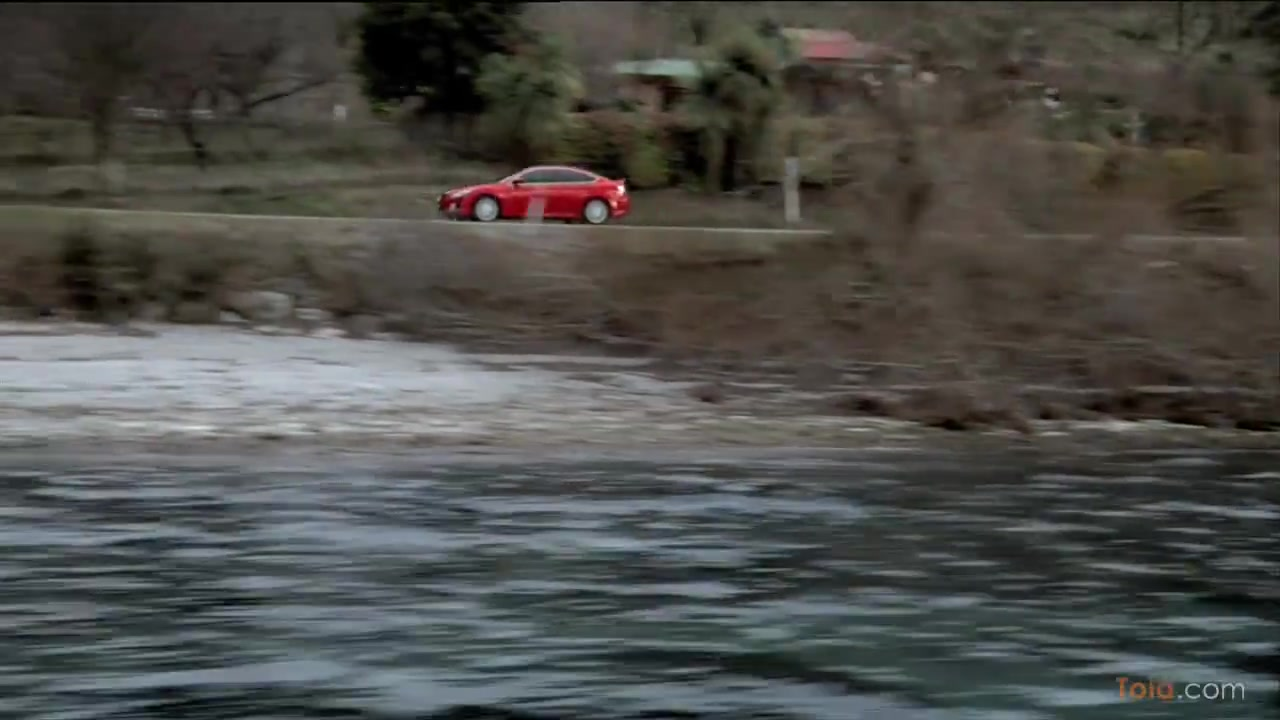car: (435, 159, 634, 225)
